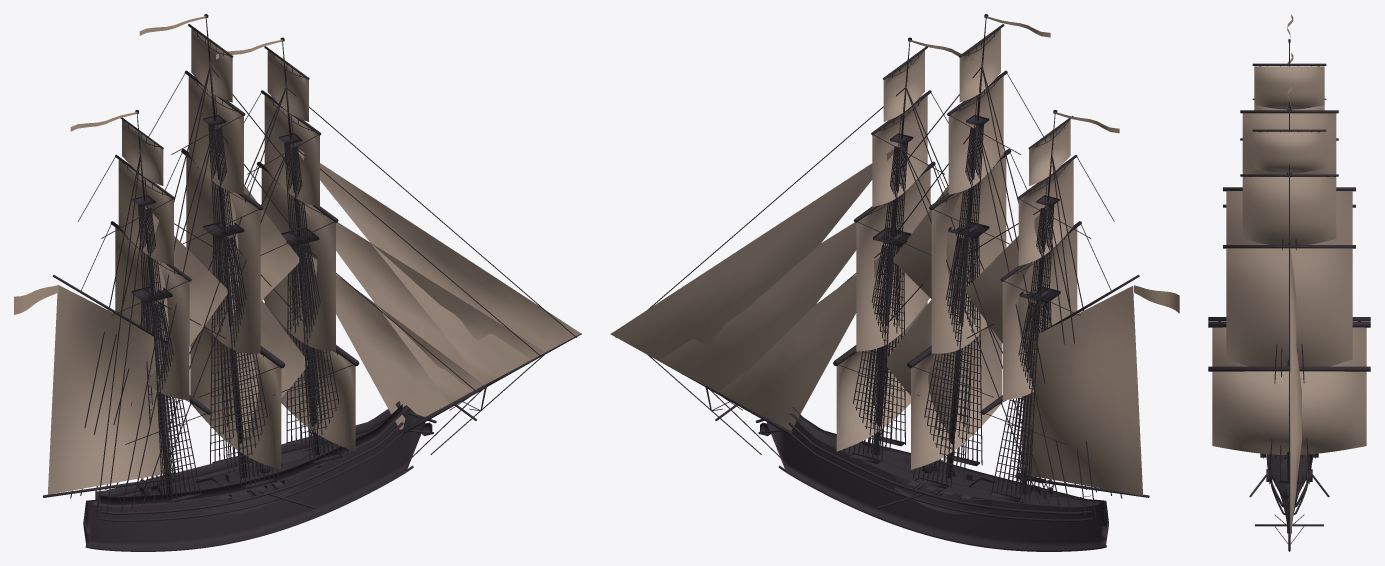
Rendered from sea_assets.glb.
3 views of the same model, side by side, from view 1: azimuth 30°, elevation 25°; view 2: azimuth 150°, elevation 25°; view 3: azimuth 270°, elevation 25° (orthographic). The views are drawn at different scales.
Visible parts, largest first — view 1: Brig, Skiff; view 2: Brig, Skiff; view 3: Brig.
Part boxes in pixels (left/top/right/bottom): Brig: left=14, top=14, right=581, bottom=551; Skiff: left=200, top=463, right=315, bottom=514; Brig: left=610, top=14, right=1179, bottom=551; Skiff: left=876, top=463, right=991, bottom=514; Brig: left=1208, top=14, right=1370, bottom=551.
Bounding box in the file's own units: 22.61 × 20.34 × 6.62.
